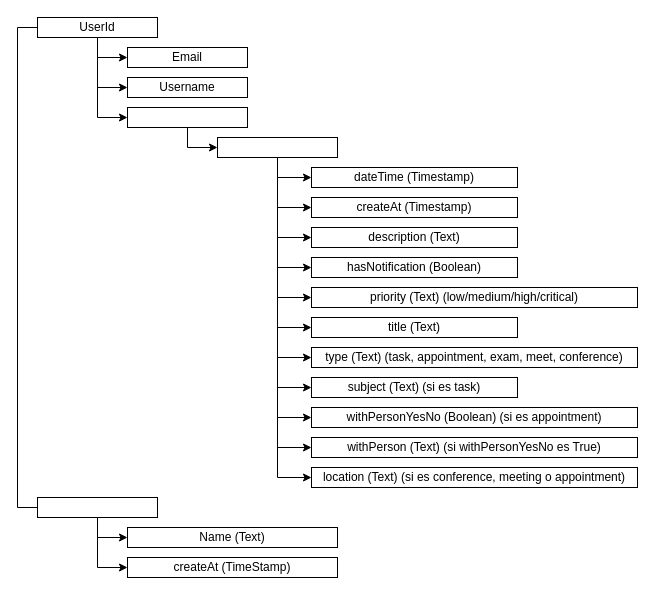
This 655x595 diagram has some shape labels left out. The box of each missing label's shape, as (x1, y1, x2, y2) in pixels:
EventId: (216, 136, 338, 158)
Events: (126, 106, 248, 128)
LocationId: (36, 496, 158, 518)
